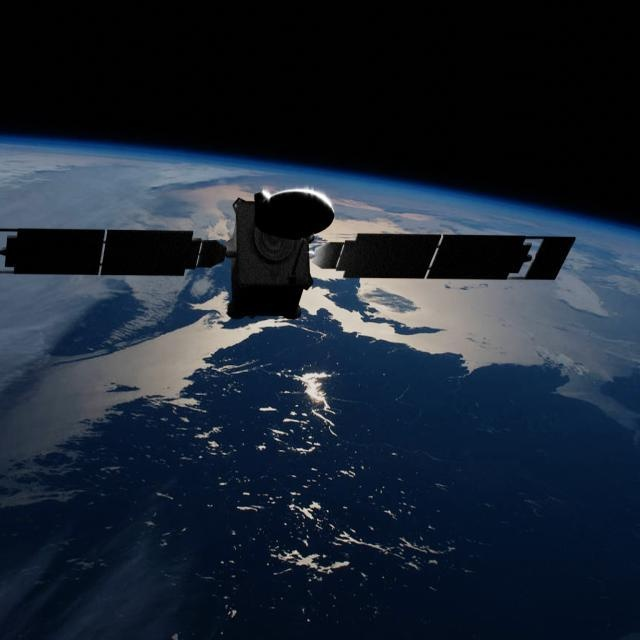satellite: (0, 167, 597, 309)
